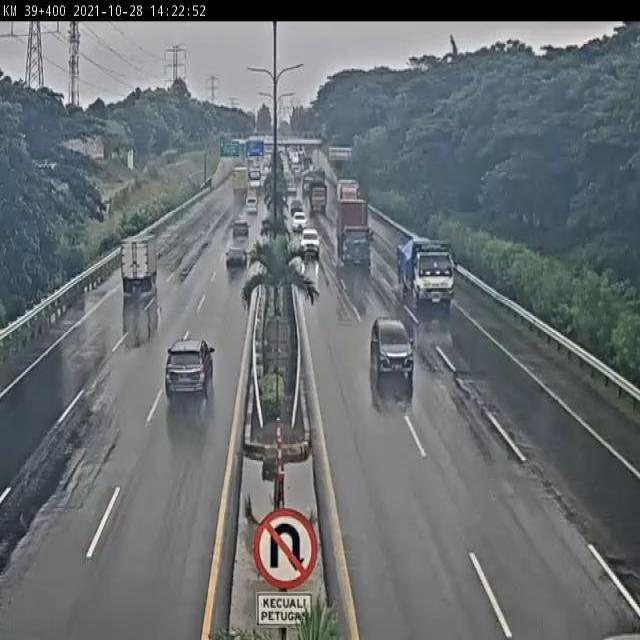ARABA: (164, 337, 215, 400), (371, 316, 415, 383), (298, 230, 324, 262), (226, 245, 247, 272), (292, 212, 310, 235), (232, 219, 250, 237)
KAMYONET: (119, 236, 161, 296)
TIR: (395, 237, 460, 311), (337, 197, 376, 272)
